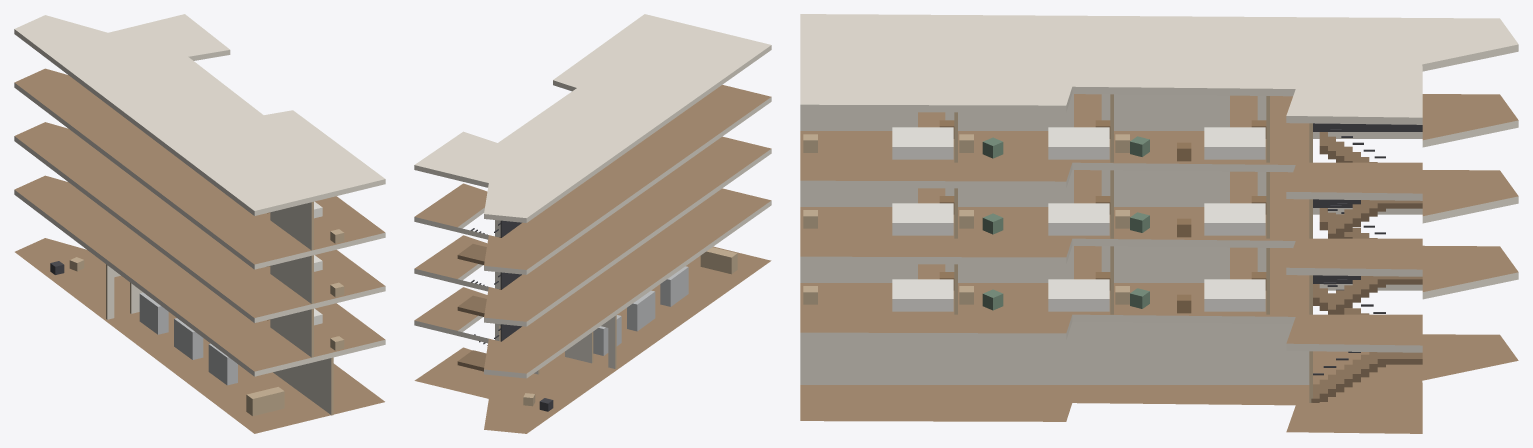
The model's file is interior.glb.
3 renders of one model, left to right at view 1: azimuth 30°, elevation 25°; view 2: azimuth 150°, elevation 25°; view 3: azimuth 270°, elevation 25°, orthographic. The views are drawn at different scales.
Visible parts, largest first — view 1: slabs, partitions, coarse-s0; view 2: slabs, coarse-s0, stair, partitions; view 3: slabs, partitions, stair, coarse-s2, coarse-s3, coarse-s1.
Part boxes in pixels (x1,y1,x2,y2): slabs: (14,14,385,433); partitions: (106,201,333,415); coarse-s0: (50,257,284,416); slabs: (414,14,771,433); coarse-s0: (523,247,737,411); stair: (457,220,521,371); partitions: (495,220,616,374); slabs: (800,14,1518,433); partitions: (800,94,1312,402); stair: (1311,123,1422,402); coarse-s2: (803,196,1266,237); coarse-s3: (803,120,1266,161); coarse-s1: (803,272,1266,313).
Size of the model in its own units: 7.99 by 11.39 by 23.41.
